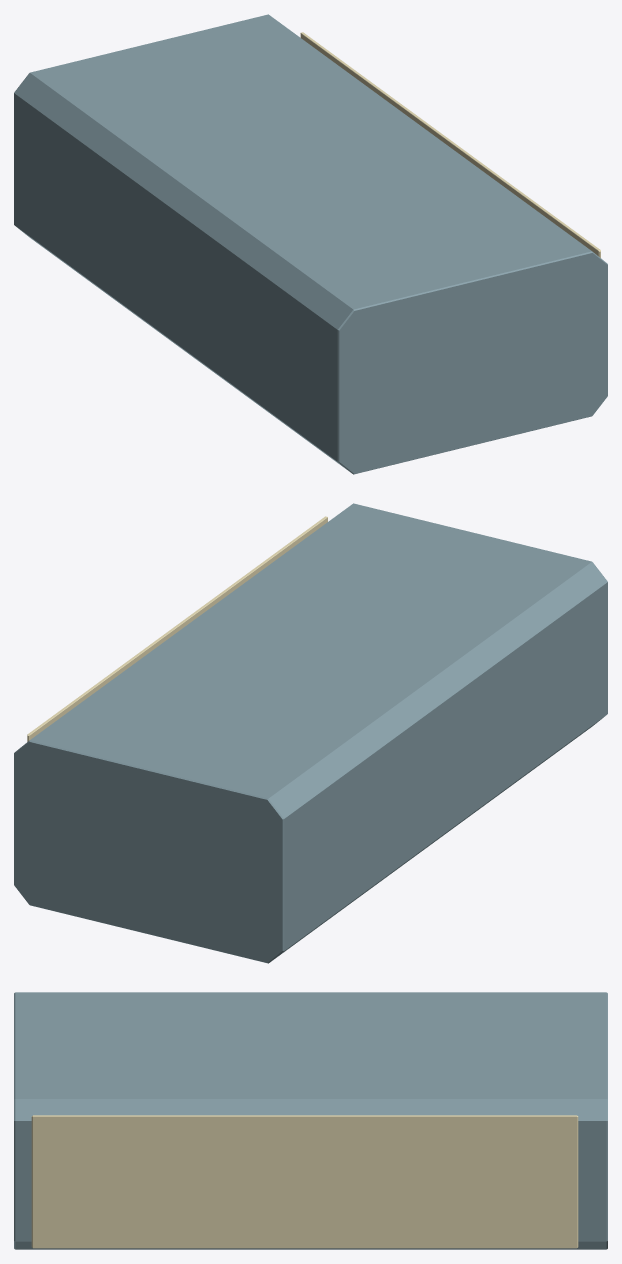
The model's file is baby_cereal.glb.
3 renders of one model, top to bottom at view 1: azimuth 30°, elevation 25°; view 2: azimuth 150°, elevation 25°; view 3: azimuth 270°, elevation 25°, orthographic. The views are drawn at different scales.
Parts seen in each view (by area): view 1: baby_cereal; view 2: baby_cereal; view 3: baby_cereal.
Boxes of the visible parts, <box> form: baby_cereal: <box>14,14,607,474</box>; baby_cereal: <box>14,503,607,963</box>; baby_cereal: <box>14,992,607,1249</box>.
Bounding box in the file's own units: 0.097 × 0.059 × 0.2.
